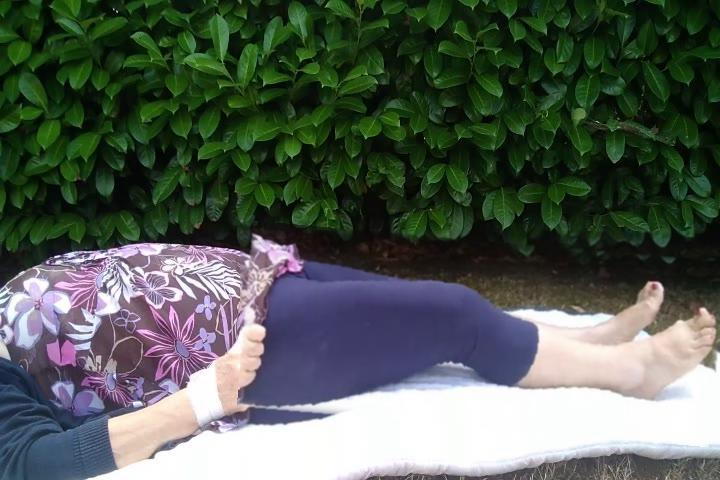lowerbody: (241, 232, 720, 438)
